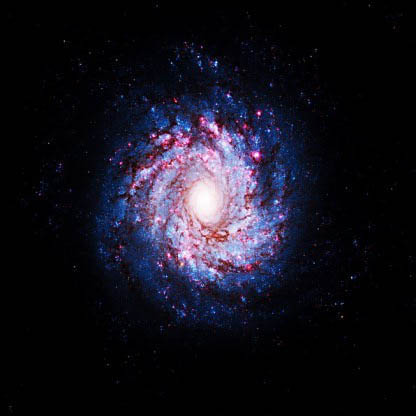NGC 3982: (95, 57, 313, 346)
